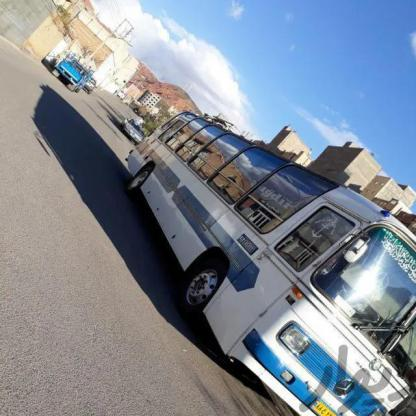Bus: (107, 114, 416, 416)
Car: (49, 56, 90, 98), (115, 114, 158, 142), (80, 80, 97, 94)
